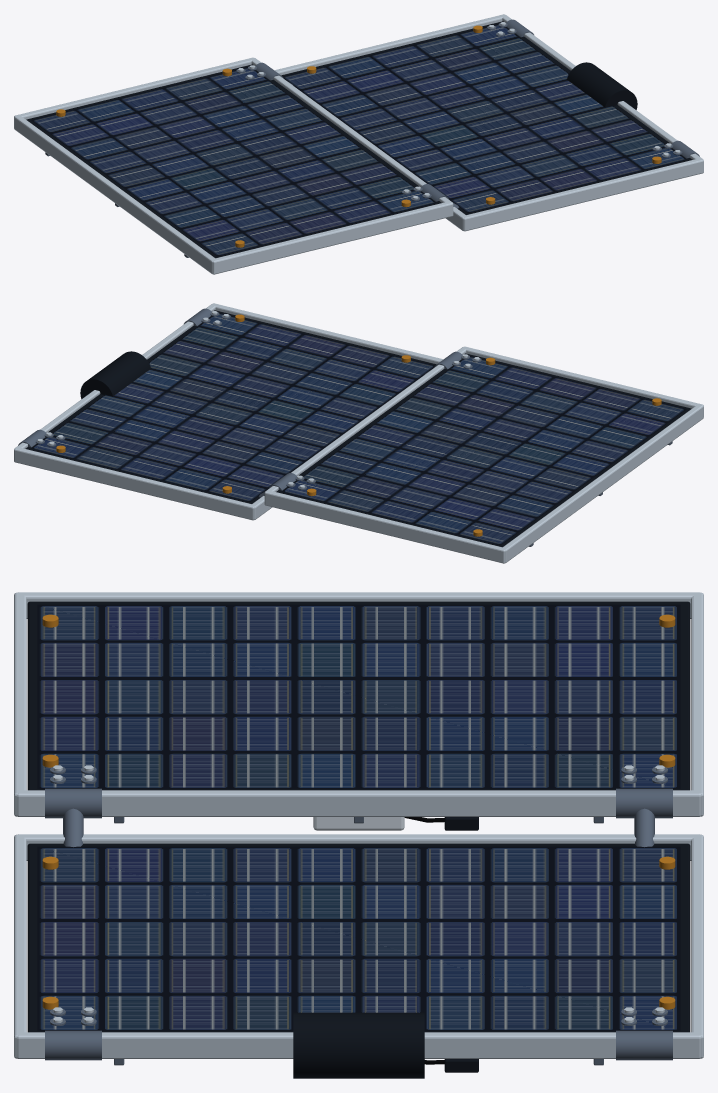
File: Component_solar_left.glb
3 views of the same model, one above another, from view 1: azimuth 30°, elevation 25°; view 2: azimuth 150°, elevation 25°; view 3: azimuth 270°, elevation 25° (orthographic). The views are drawn at different scales.
Visible parts, largest first — view 1: Solar_Left_Outer_photovoltaic_cells, Solar_Left_Inner_photovoltaic_cells, Solar_Left_Outer_edge_y, Solar_Left_Inner_edge_y, Solar_Left_Outer_edge_x.001, Solar_Left_Outer_substrate, Solar_Left_deployment_drive, Solar_Left_Outer_edge_y.001, Solar_Left_Inner_edge_y.001, Solar_Left_Inner_substrate, Solar_Left_Outer_edge_x, Solar_Left_Inner_edge_x; view 2: Solar_Left_Outer_photovoltaic_cells, Solar_Left_Inner_photovoltaic_cells, Solar_Left_Outer_edge_y.001, Solar_Left_Inner_edge_y.001, Solar_Left_Outer_edge_x.001, Solar_Left_Outer_substrate, Solar_Left_deployment_drive, Solar_Left_Outer_edge_y, Solar_Left_Inner_edge_y, Solar_Left_Inner_substrate, Solar_Left_Outer_edge_x, Solar_Left_Inner_edge_x; view 3: Solar_Left_Outer_photovoltaic_cells, Solar_Left_Inner_photovoltaic_cells, Solar_Left_Outer_edge_x, Solar_Left_Inner_edge_x, Solar_Left_deployment_drive, Solar_Left_Outer_substrate, Solar_Left_Inner_substrate, Solar_Left_Outer_edge_x.001, Solar_Left_Inner_edge_x.001, Solar_Left_Outer_edge_y, Solar_Left_Outer_edge_y.001, Solar_Left_Inner_edge_y.001 (+6 smaller).
Boxes of the visible parts, x1,y1,x2,y2 form: Solar_Left_Outer_photovoltaic_cells: (31,67,435,256); Solar_Left_Inner_photovoltaic_cells: (283,24,686,213); Solar_Left_Outer_edge_y: (212,201,453,274); Solar_Left_Inner_edge_y: (463,159,703,231); Solar_Left_Outer_edge_x.001: (14,115,216,274); Solar_Left_Outer_substrate: (26,64,441,258); Solar_Left_deployment_drive: (567,62,637,109); Solar_Left_Outer_edge_y.001: (14,57,253,119); Solar_Left_Inner_edge_y.001: (274,14,504,75); Solar_Left_Inner_substrate: (281,21,692,214); Solar_Left_Outer_edge_x: (251,58,452,202); Solar_Left_Inner_edge_x: (501,14,703,159); Solar_Left_Outer_photovoltaic_cells: (282,356,686,545); Solar_Left_Inner_photovoltaic_cells: (31,313,434,502); Solar_Left_Outer_edge_y.001: (264,491,505,563); Solar_Left_Inner_edge_y.001: (14,448,254,520); Solar_Left_Outer_edge_x.001: (501,404,703,563); Solar_Left_Outer_substrate: (276,353,691,547); Solar_Left_deployment_drive: (80,351,150,398); Solar_Left_Outer_edge_y: (464,346,703,408); Solar_Left_Inner_edge_y: (213,303,443,364); Solar_Left_Inner_substrate: (25,310,436,503); Solar_Left_Outer_edge_x: (265,347,466,492); Solar_Left_Inner_edge_x: (14,303,216,448); Solar_Left_Outer_photovoltaic_cells: (37,604,680,788); Solar_Left_Inner_photovoltaic_cells: (37,846,680,1030); Solar_Left_Outer_edge_x: (16,790,701,816); Solar_Left_Inner_edge_x: (16,1032,701,1058); Solar_Left_deployment_drive: (293,1012,424,1078); Solar_Left_Outer_substrate: (27,601,690,790); Solar_Left_Inner_substrate: (27,843,690,1032); Solar_Left_Outer_edge_x.001: (18,592,699,618); Solar_Left_Inner_edge_x.001: (18,834,699,860); Solar_Left_Outer_edge_y: (14,592,26,816); Solar_Left_Outer_edge_y.001: (691,592,703,816); Solar_Left_Inner_edge_y.001: (691,834,703,1058).
Size of the model in its own units: 1.76 by 0.1755 by 1.21.
Materials: 7 (1 with a texture image).
